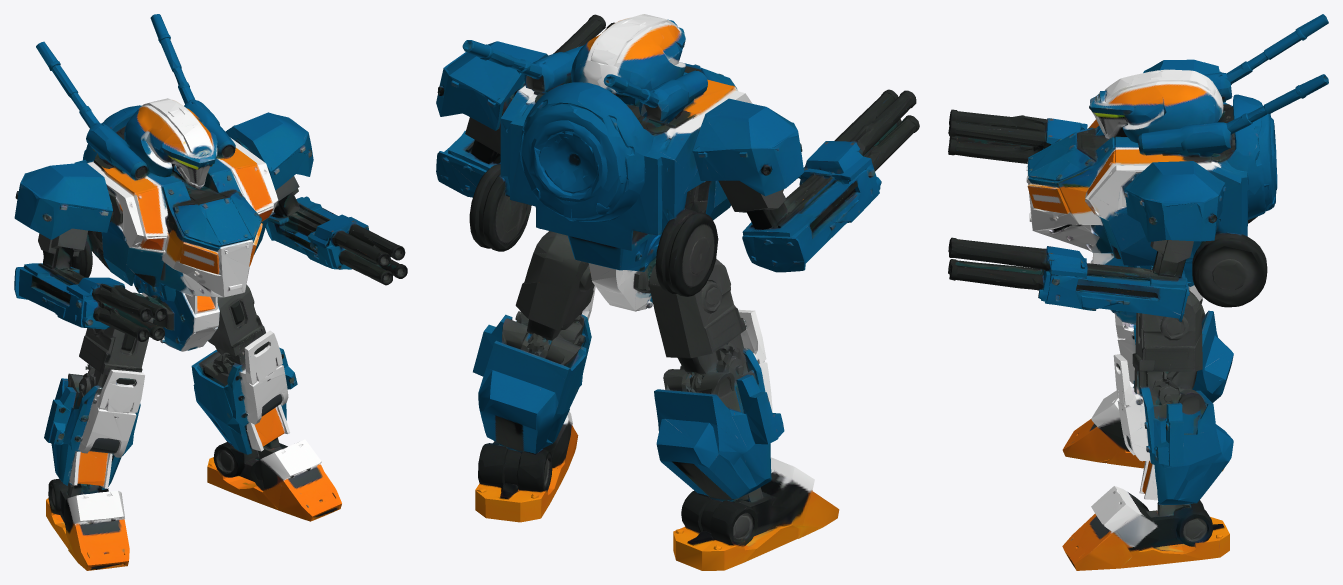
Rendered from en01_tech_swarm.fbx.
3 renders of one model, left to right at view 1: azimuth 30°, elevation 25°; view 2: azimuth 150°, elevation 25°; view 3: azimuth 270°, elevation 25°, orthographic. The views are drawn at different scales.
Visible parts, largest first — view 1: Mesh_0; view 2: Mesh_0; view 3: Mesh_0.
Boxes of the visible parts, <box> form: Mesh_0: <box>14,14,407,570</box>; Mesh_0: <box>436,14,919,570</box>; Mesh_0: <box>948,14,1328,570</box>.
Bounding box in the file's own units: 132 × 180 × 135.
Materials: 1 (1 with a texture image).
